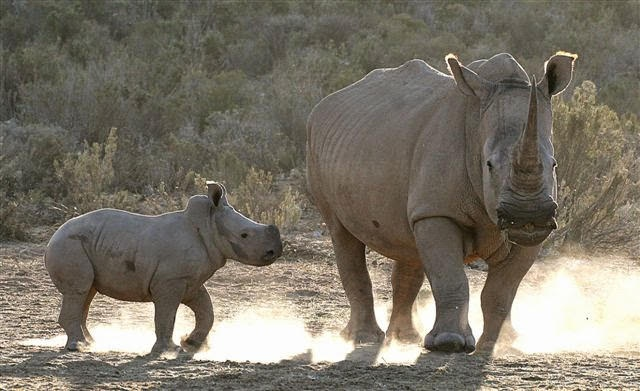rhino: (306, 50, 582, 355), (42, 177, 286, 355)
